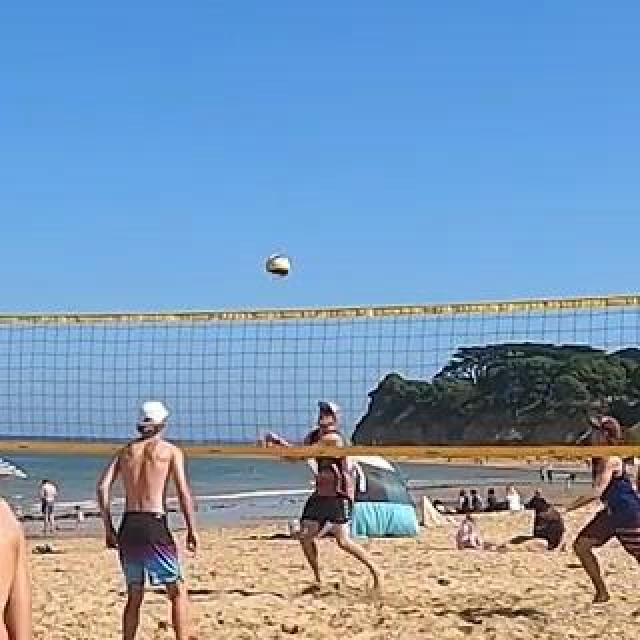volleyball: (265, 254, 289, 276)
